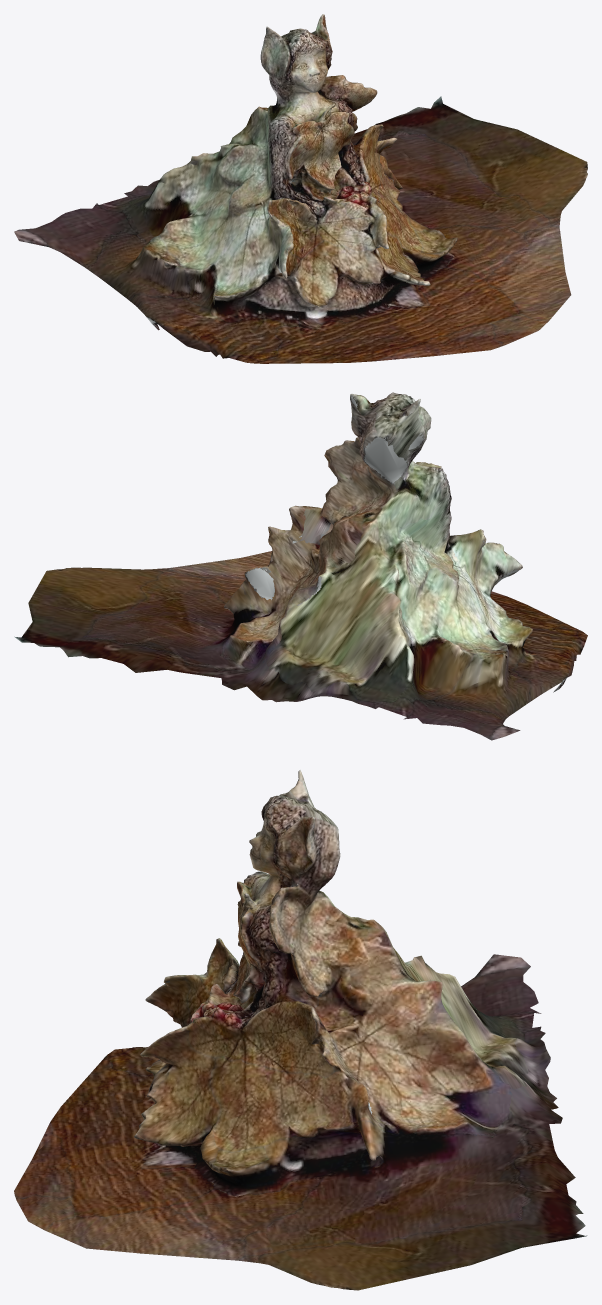
File: bladerina.obj
3 renders of one model, top to bottom at view 1: azimuth 30°, elevation 25°; view 2: azimuth 150°, elevation 25°; view 3: azimuth 270°, elevation 25°, orthographic. The views are drawn at different scales.
Bounding box in the file's own units: 32.43 × 16.25 × 24.17.
Materials: 2 (2 with a texture image).
